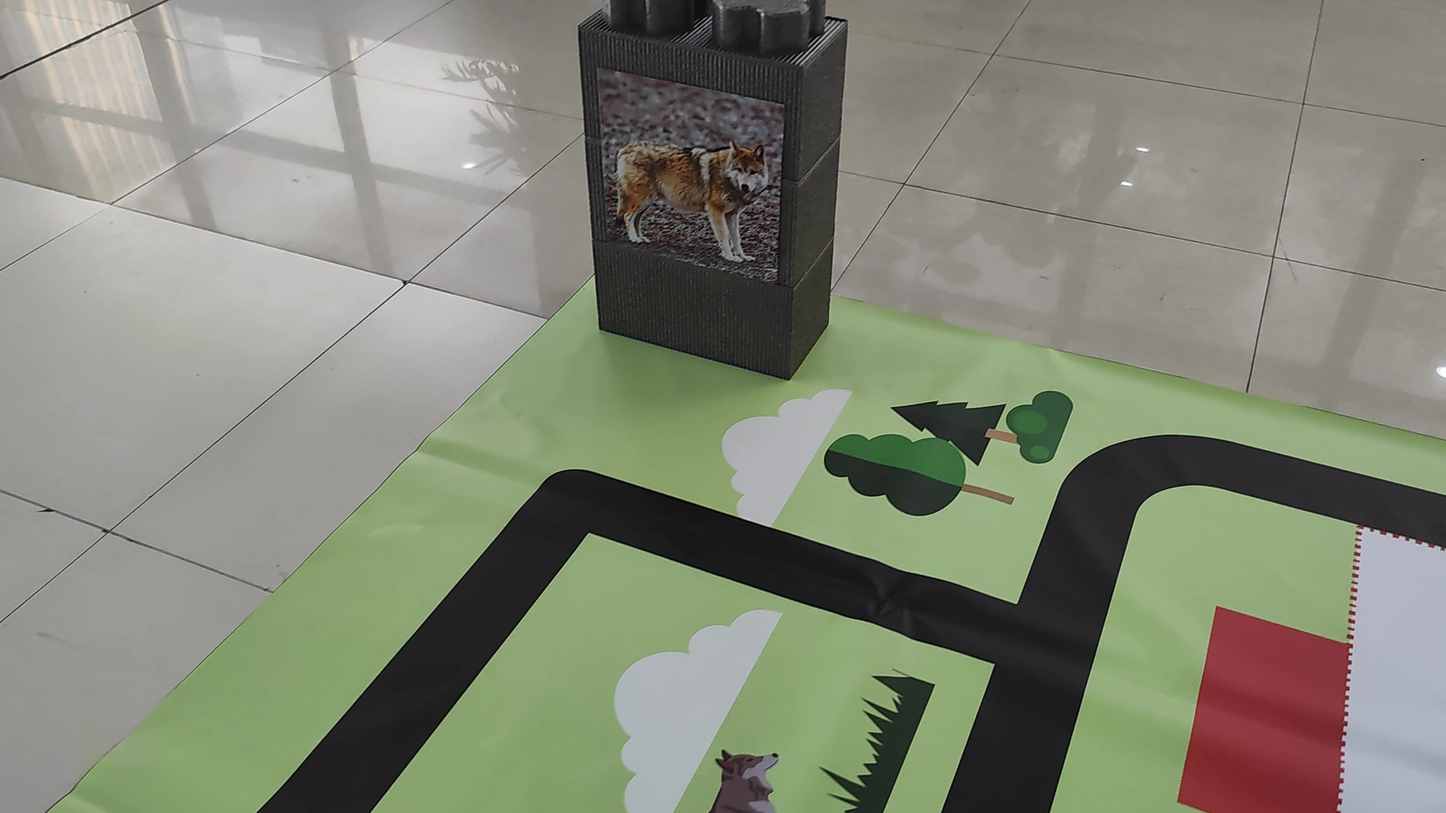wolf: (595, 105, 775, 263)
